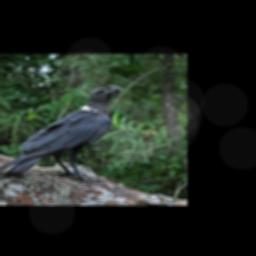Crow: (0, 84, 126, 184)
